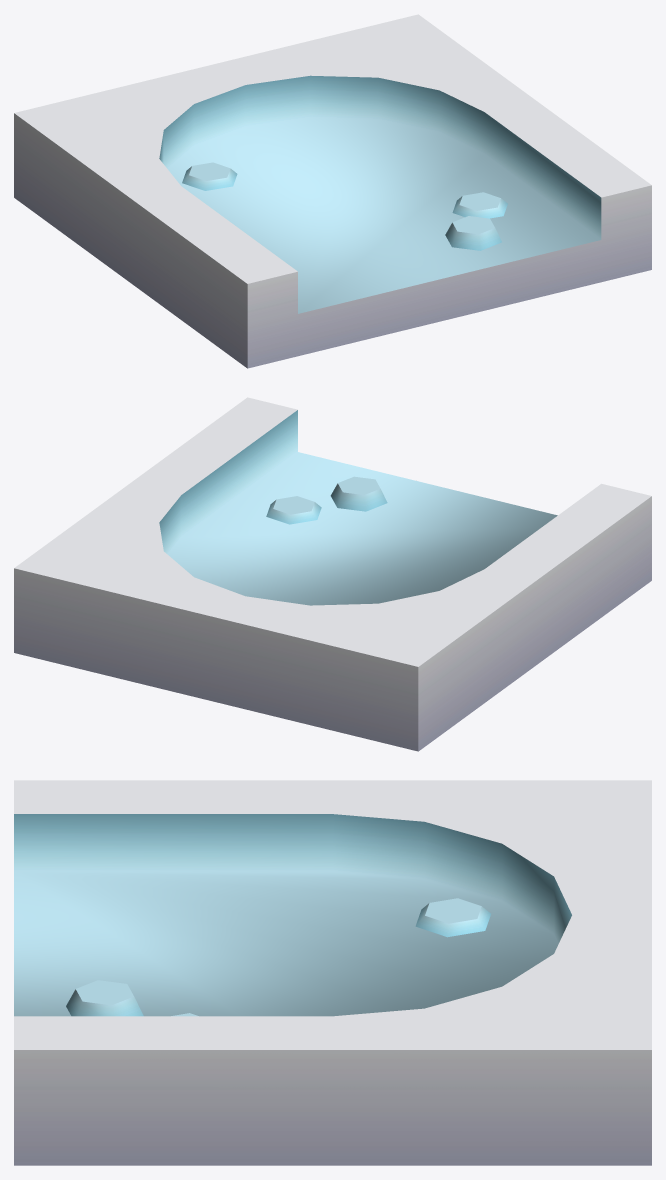
The model's file is kenney-tower-defense-snow-tile-end-round.glb.
3 views of the same model, one above another, from view 1: azimuth 30°, elevation 25°; view 2: azimuth 150°, elevation 25°; view 3: azimuth 270°, elevation 25° (orthographic). The views are drawn at different scales.
Parts seen in each view (by area): view 1: snow-tile-end-round; view 2: snow-tile-end-round; view 3: snow-tile-end-round.
Boxes of the visible parts, left/top/right/bottom form: snow-tile-end-round: left=14, top=14, right=651, bottom=368; snow-tile-end-round: left=14, top=397, right=651, bottom=751; snow-tile-end-round: left=14, top=780, right=651, bottom=1165.
Size of the model in its own units: 1 by 0.2 by 1.
Materials: 1 (1 with a texture image).
